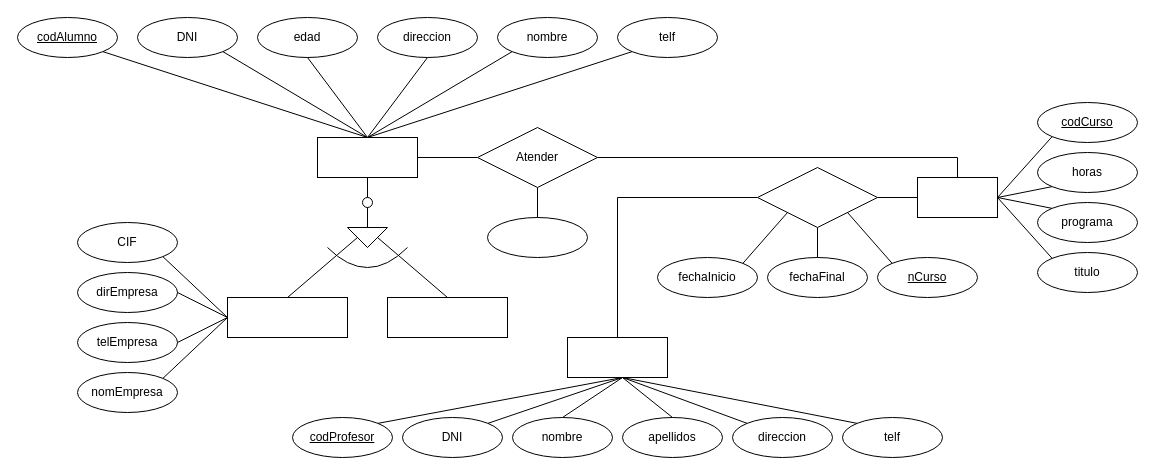
Some shapes in this 1155 by 475 pixel diagram are drawn without their labels. The centre of each missing label's shape, as x and y in pixels:
ALUMNOS: the point at 367,157
CURSO: the point at 957,197
DESEMPLEADOS: the point at 447,317
Impartir: the point at 817,197
nota: the point at 537,237
PROFESOR: the point at 617,357
TRABAJADORES: the point at 287,317
